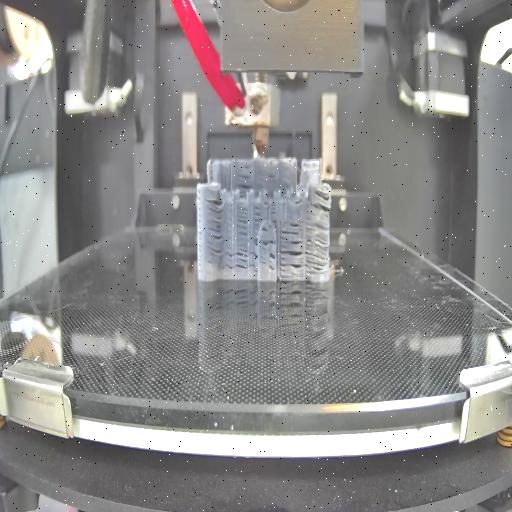cracks: (304, 224, 330, 274), (206, 196, 223, 254), (280, 240, 302, 274), (308, 190, 330, 212), (279, 220, 301, 239), (237, 206, 249, 238), (250, 237, 258, 273), (235, 249, 247, 271), (224, 246, 234, 272), (238, 174, 252, 188), (268, 251, 276, 274), (260, 236, 275, 248), (252, 206, 262, 224), (269, 204, 277, 224), (259, 171, 275, 179), (260, 226, 270, 232), (241, 166, 251, 170)
